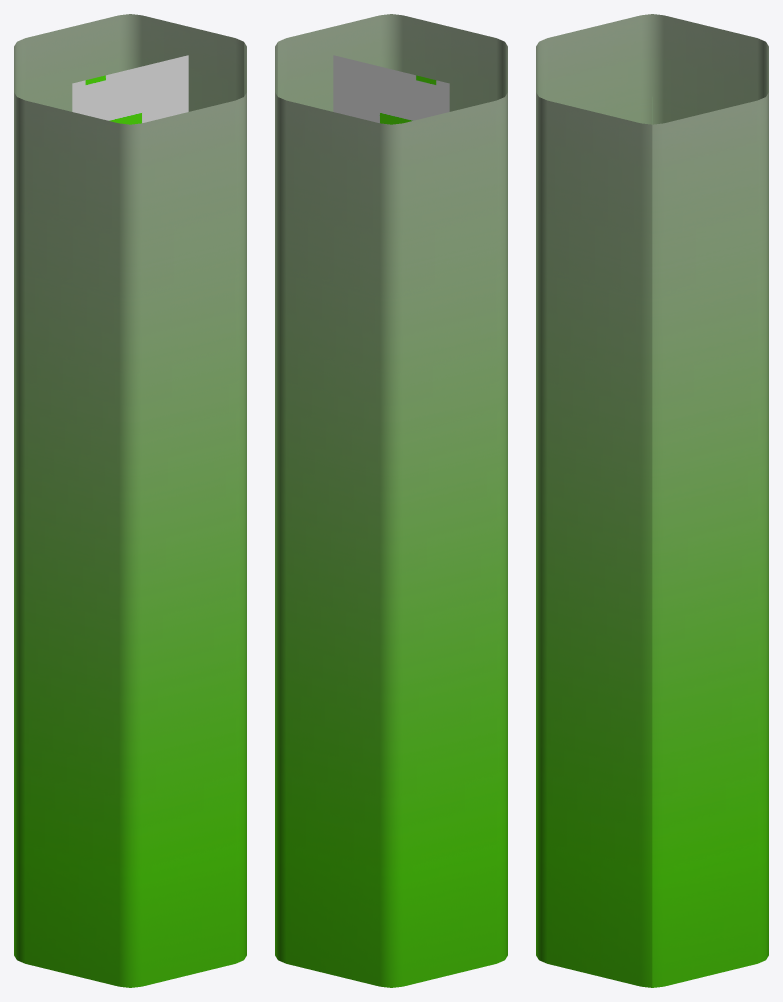
Rendered from Fps_Checkpoint.fbx.
The picture shows the model from 3 angles, left to right: view 1: azimuth 30°, elevation 25°; view 2: azimuth 150°, elevation 25°; view 3: azimuth 270°, elevation 25°; orthographic projection.
Parts seen in each view (by area): view 1: Center_Part, Particles; view 2: Center_Part, Particles; view 3: Center_Part.
Part boxes in pixels (box(x1,y1,x2,y2)): Center_Part: box(14, 14, 246, 987); Particles: box(72, 55, 188, 124); Center_Part: box(275, 14, 507, 987); Particles: box(333, 55, 449, 124); Center_Part: box(536, 14, 768, 987).
Size of what is drawn, in the model's own units: 2.44 by 8.89 by 2.17.
